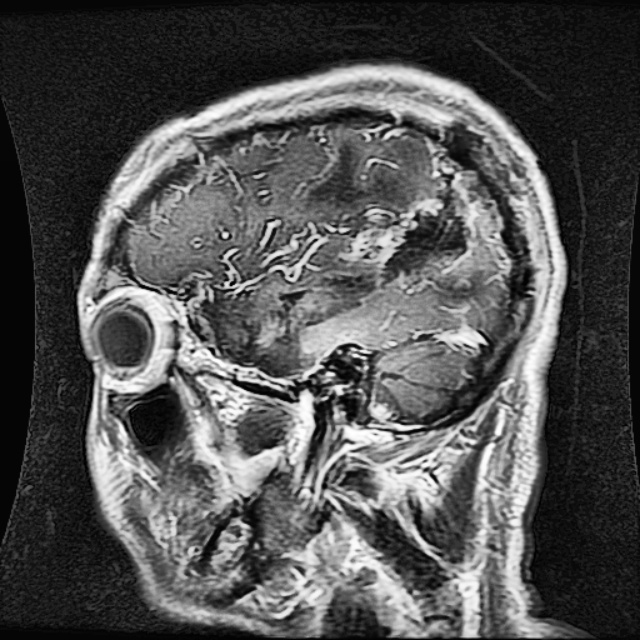Meningioma: (382, 188, 474, 275)
